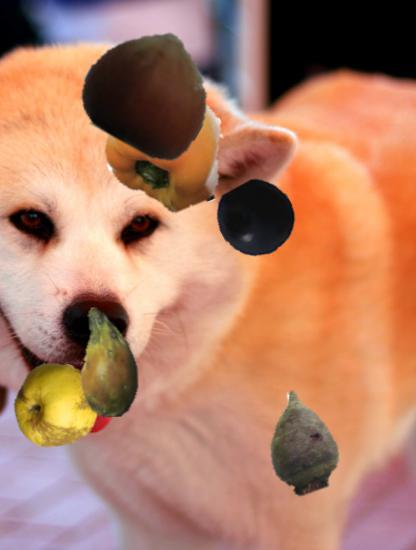Apple: (12, 362, 101, 451)
Beetroot: (245, 386, 355, 496)
Cactus: (54, 307, 165, 418)
Grape: (218, 180, 295, 257)
Nut: (87, 26, 215, 154)
Pepper: (107, 92, 230, 215)
